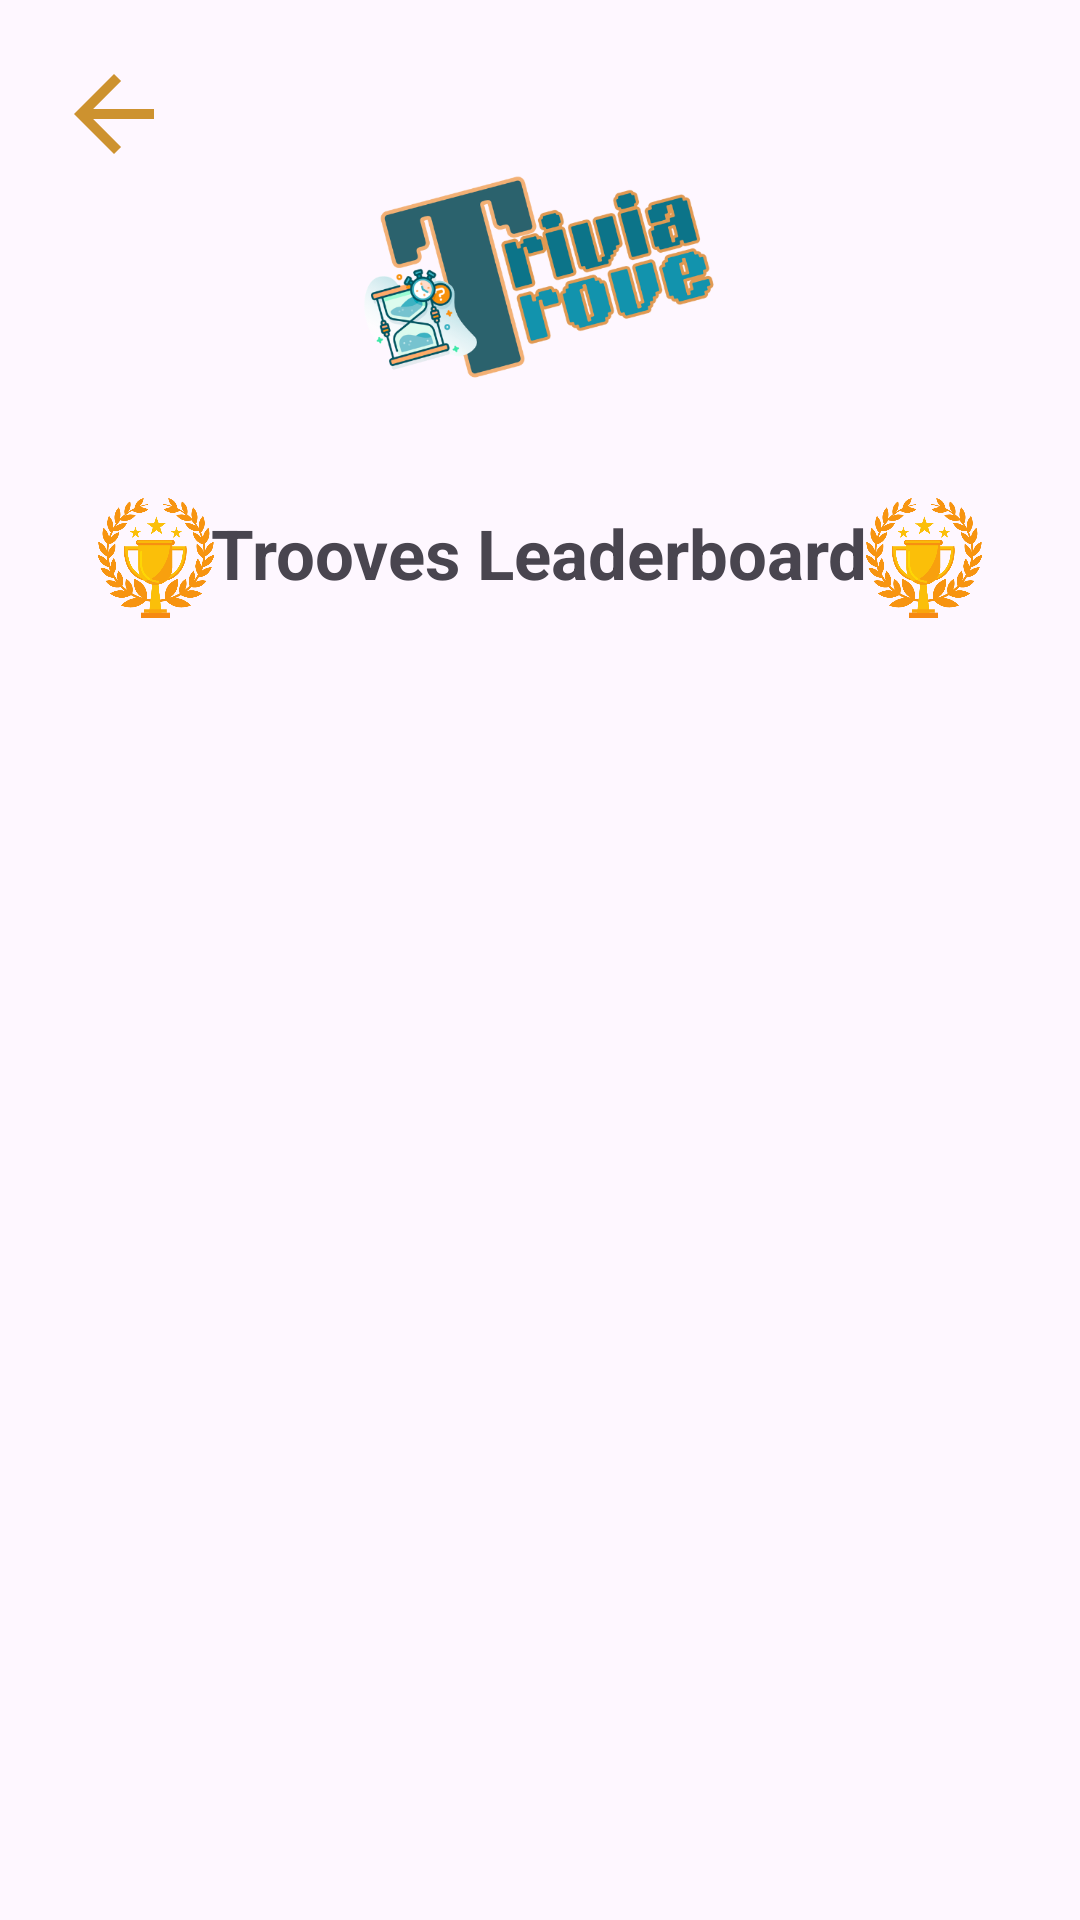

Where to tap for icons on this 1080 × 1920 app screen, as point (x, y):
Back: point (114, 114)
trophy: point (156, 558), point (924, 558)
